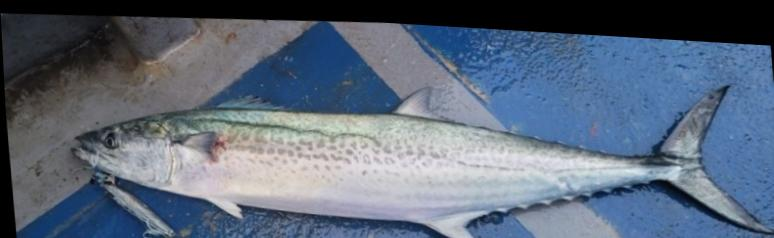fish: (71, 79, 767, 238)
